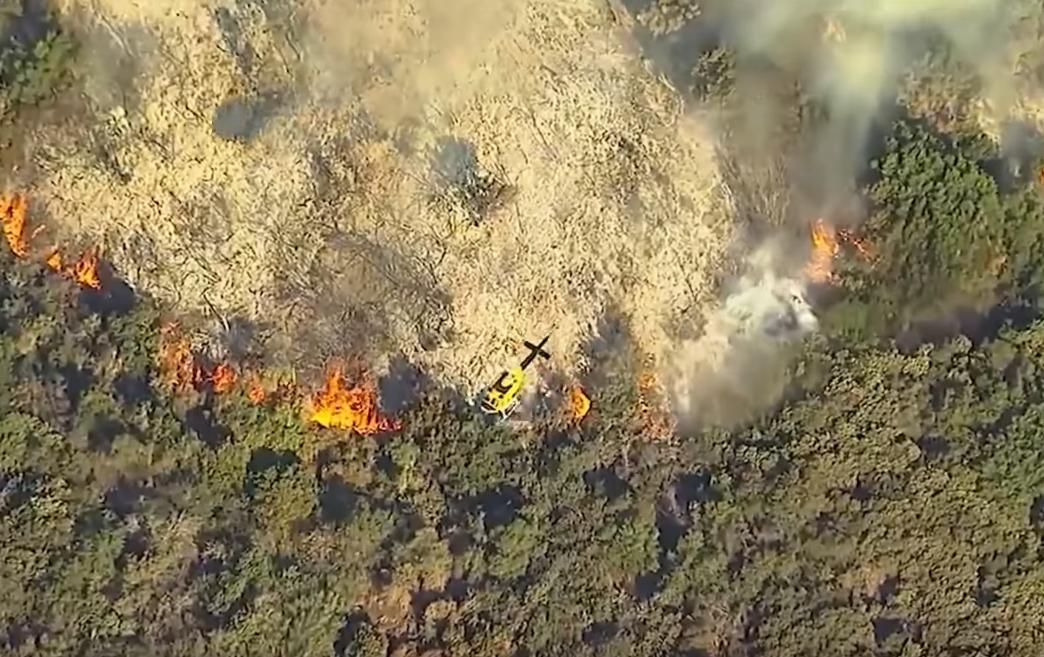fire: (322, 365, 370, 427), (0, 198, 40, 245)
